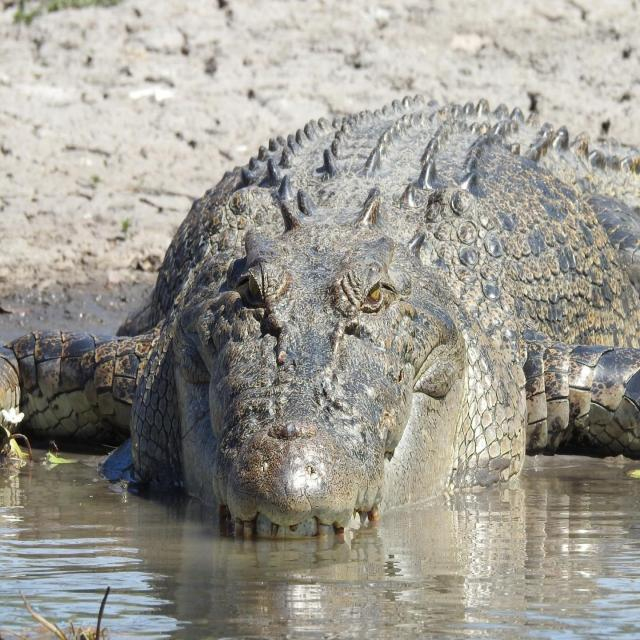crocodile: (0, 42, 640, 618)
